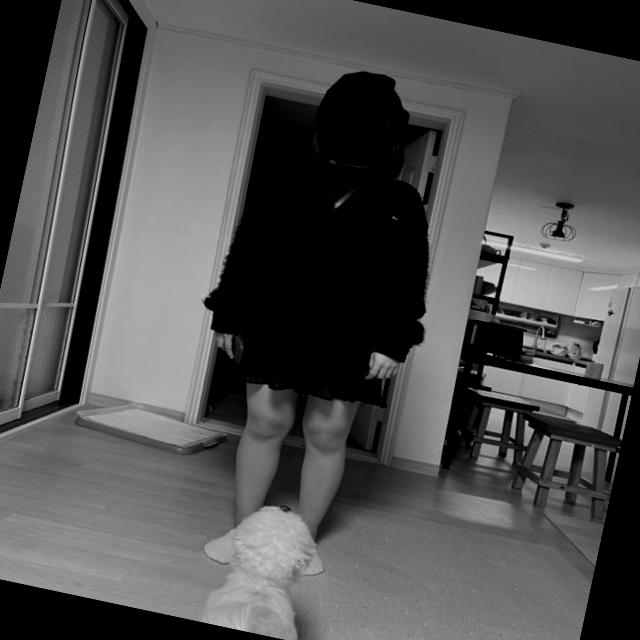cardigan: (192, 138, 456, 374)
skirt: (228, 271, 408, 416)
